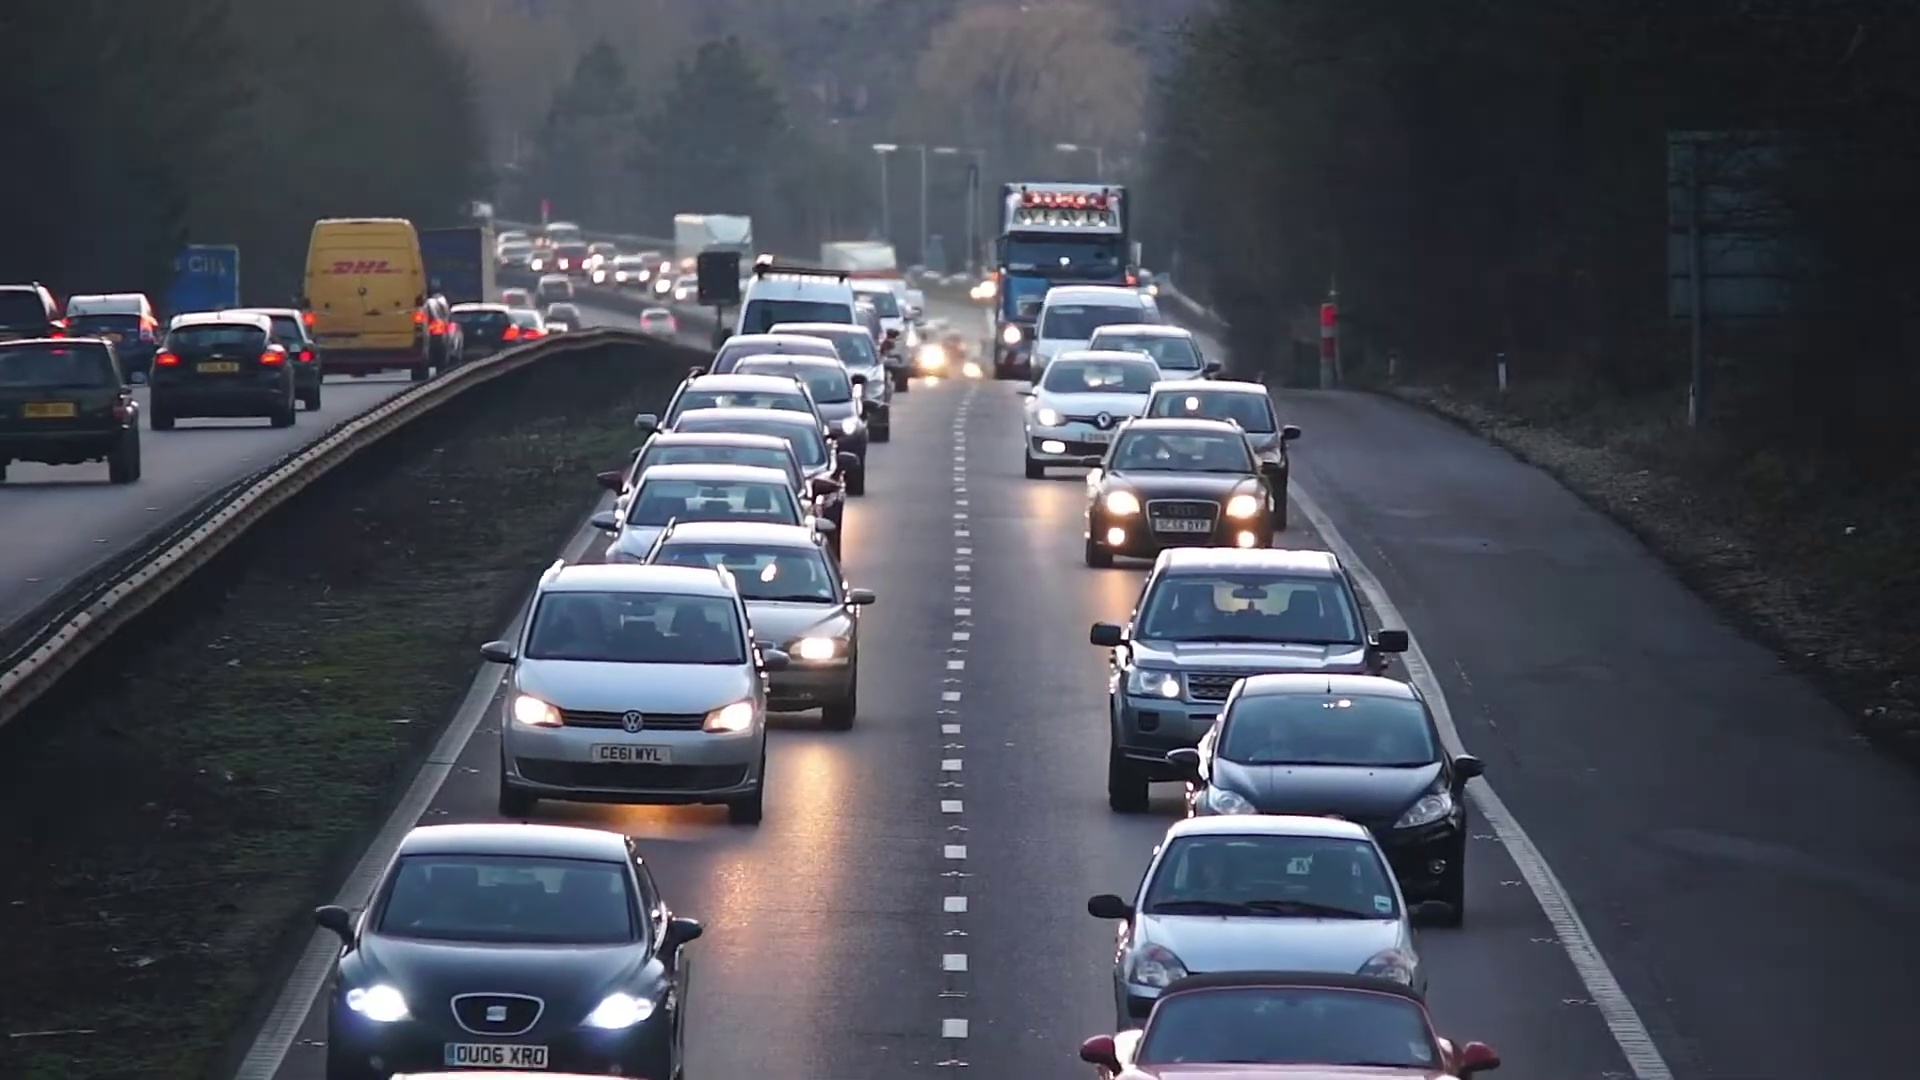license_plate: (441, 1040, 552, 1075)
